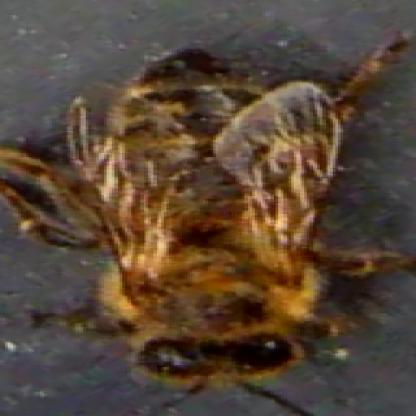bee: (74, 53, 293, 345)
